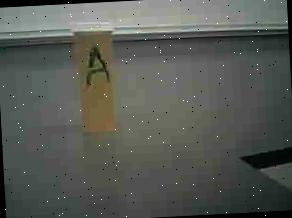Bottle A: (62, 12, 130, 145)
